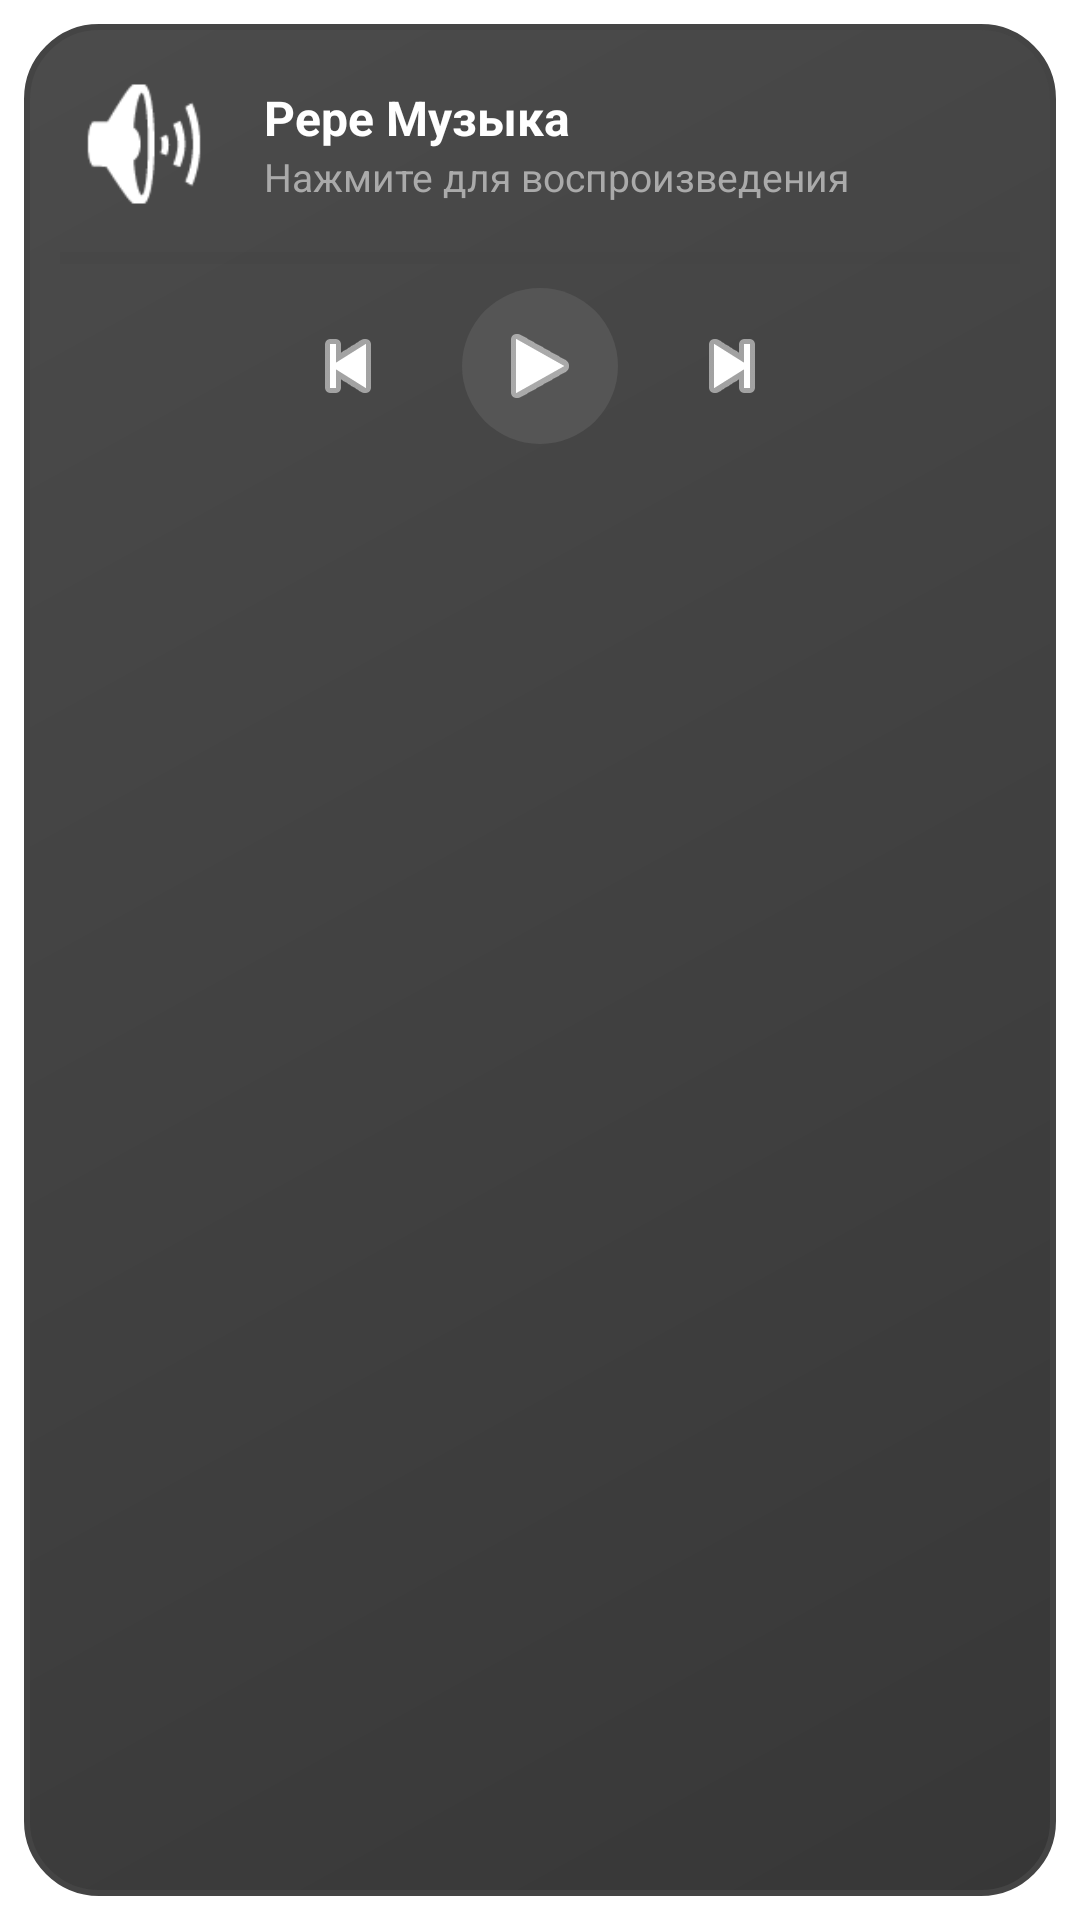

Icon bounding boxes for this 1080w x 1920h phone screenshot, format [x1=x1, y1=y1, x2=x2, y2=y2]:
Next: [x1=709, y1=339, x2=755, y2=393]
Play/Pause: [x1=511, y1=334, x2=569, y2=398]
Previous: [x1=325, y1=339, x2=371, y2=393]
